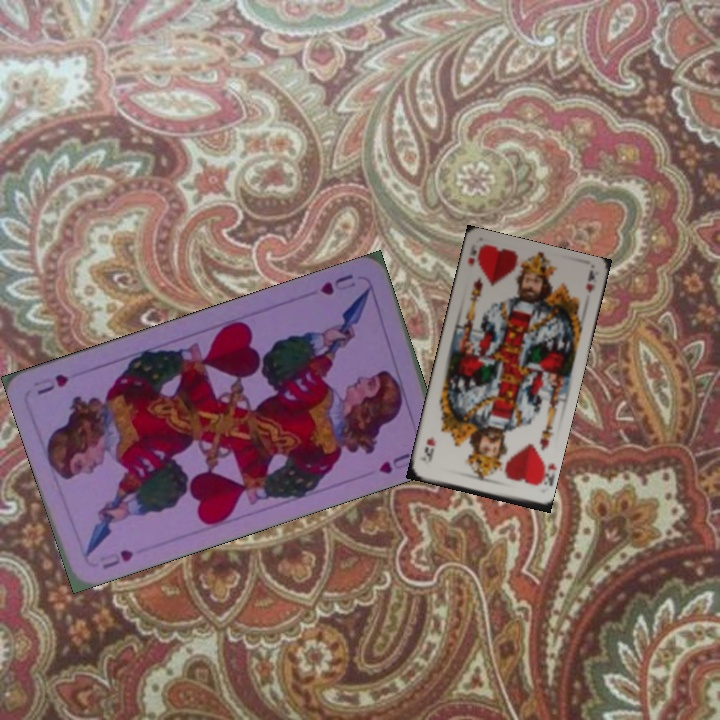HK: (532, 453, 555, 489), (464, 241, 479, 270)
HU: (316, 270, 358, 298), (95, 545, 136, 572)
